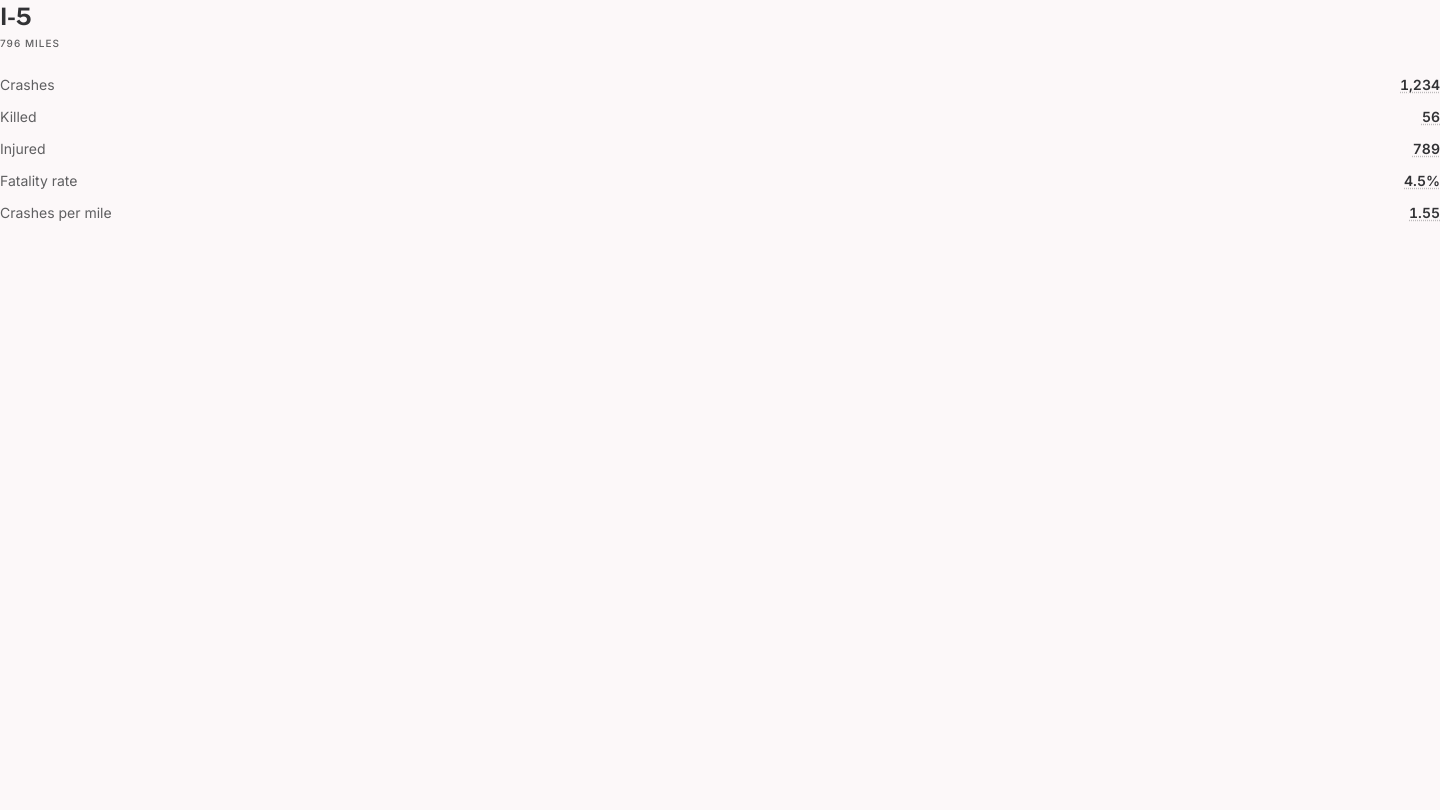
opens the AI companion when a stat is clicked
The width and height of the screenshot is (1440, 810).
Click the button named "Explain: I-5 · fatality rate".
click(1422, 181)  # box [1404,171,1439,191]
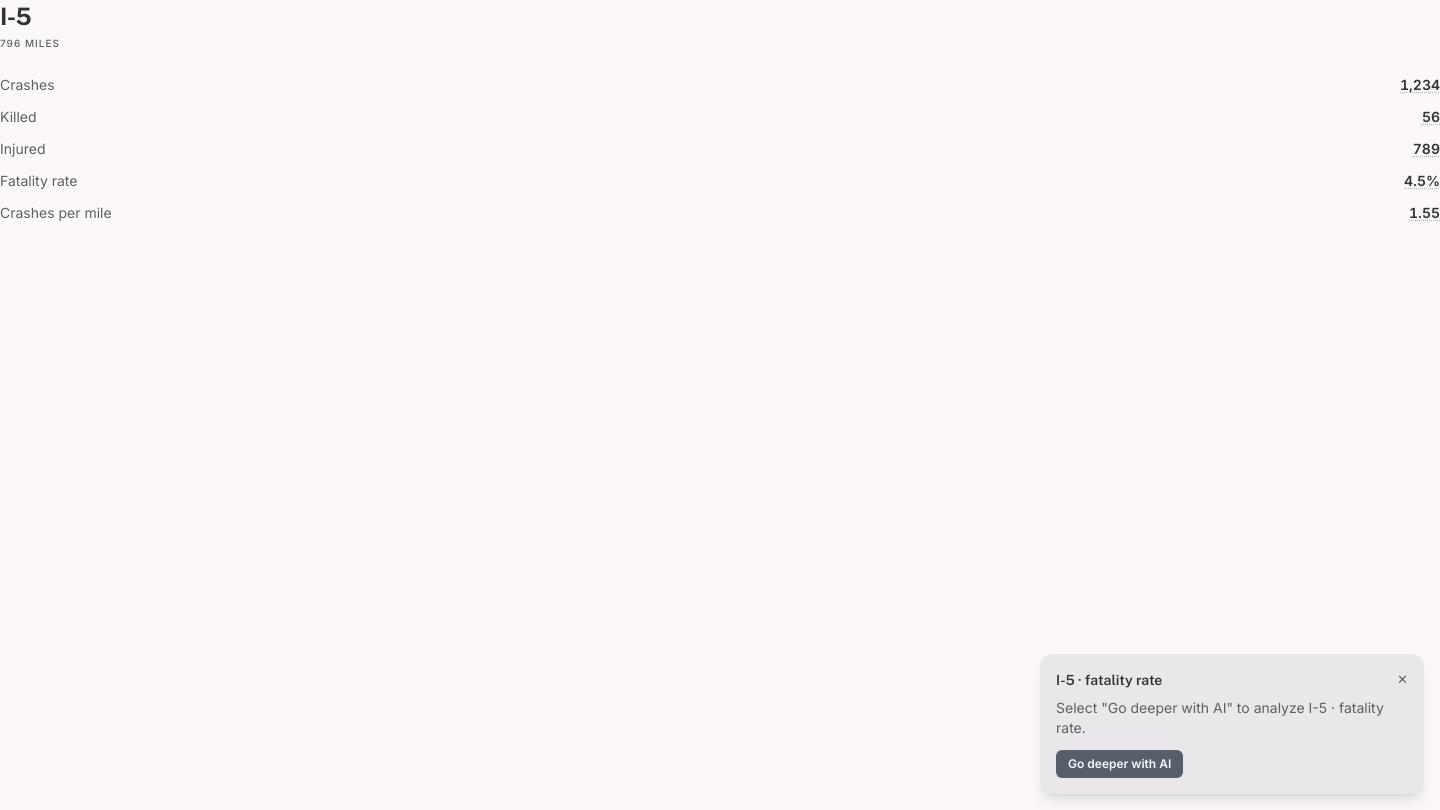
Result: the dialog named "AI explanation" is shown at [1040,654,1424,794]
